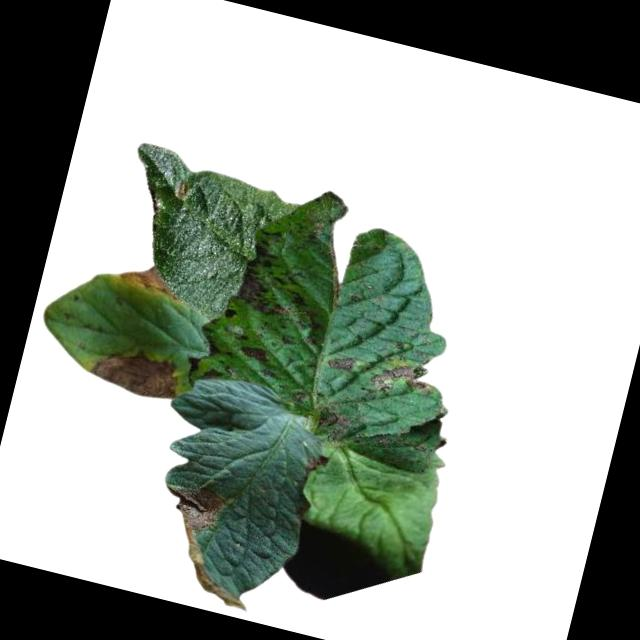Early_blight: (150, 478, 276, 614), (233, 227, 321, 326), (90, 337, 186, 402), (367, 351, 435, 405), (117, 256, 185, 301), (312, 397, 354, 443), (183, 352, 225, 393), (300, 448, 330, 474), (240, 343, 271, 364), (326, 352, 354, 373), (171, 179, 192, 202), (220, 305, 237, 321)
